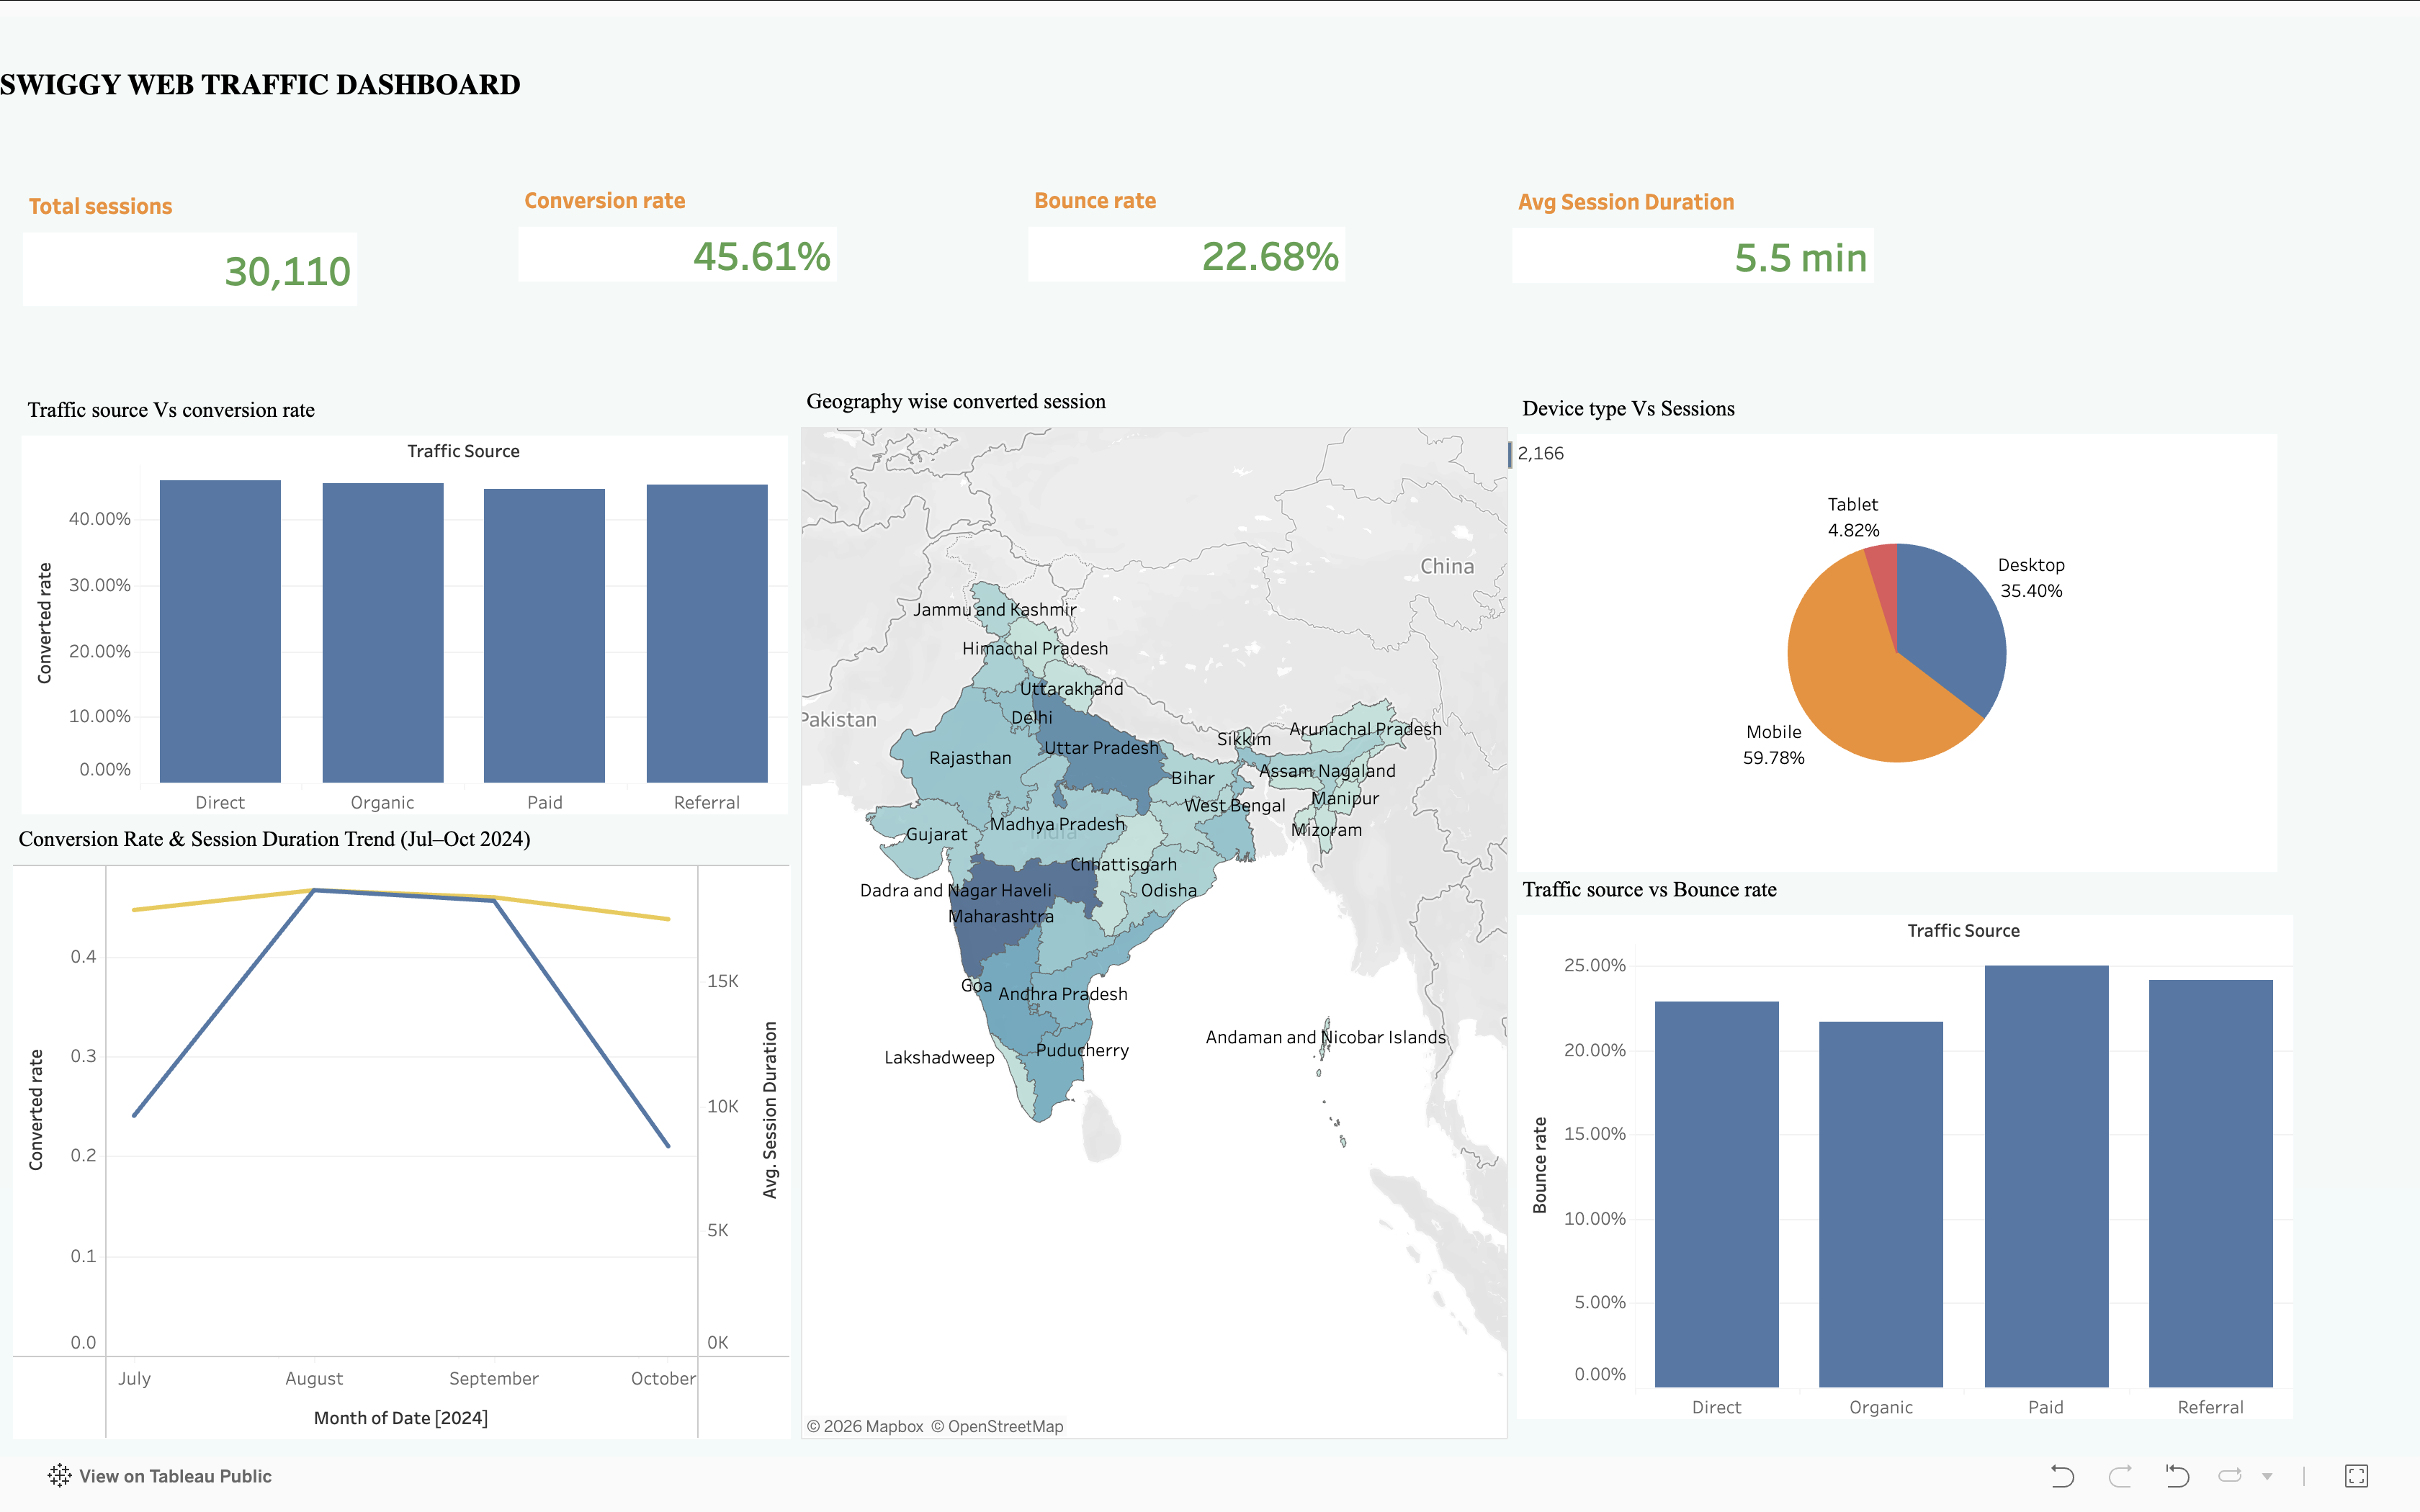

The page's visual inventory and layout, read from the dashboard file:
{"tool":"tableau","page":{"name":"Dashboard 2","canvas":[1000,1000],"units":"permille","ordinal":0},"visuals":[{"type":"text","box":[0,1.2,788.4,92.9]},{"type":"worksheet","title":"KPI-2(conversion rate)","mark":"Automatic","box":[214,110,131.6,133.2]},{"type":"worksheet","title":"KPI -3 Bounce rate","mark":"Automatic","box":[425,110,131,138.1]},{"type":"worksheet","title":"KPI-4 Avg Session","mark":"Automatic","box":[624.9,111.2,150.1,149.1]},{"type":"worksheet","title":"KPI-1(sessions)","mark":"Automatic","box":[9.2,113.7,138.4,119.8]},{"type":"worksheet","title":"Sheet 11","mark":"Multipolygon","box":[330.9,251.8,292.1,735.9]},{"type":"worksheet","title":"Sheet 1","mark":"Pie","box":[626.7,256.7,314.3,337.4]},{"type":"worksheet","title":"Sheet 3","mark":"Automatic","rows":["Calculation_1931342596378630"],"cols":["Traffic Source"],"box":[8.8,257.6,316.9,296.7]},{"type":"legend","title":"Sheet 11","param":"[federated.1r6je7g1iwuasj1035i9g1muz46y].[sum:Calculation_1931342595702789:qk]","box":[426.2,290.6,223.1,35.4]},{"type":"worksheet","title":"Sheet 6","mark":"Automatic","rows":["Calculation_1931342596378630","Avg. Session Duration"],"cols":["Date"],"box":[5.6,555.6,321.2,432.2]},{"type":"worksheet","title":"Sheet 4","mark":"Bar","rows":["Calculation_1931342467760131"],"cols":["Traffic Source"],"box":[626.9,591,320.6,383.4]}]}

Visuals, with their boxes on the dashboard's canvas, which has no fixed pixel size, in thousandths of its width and height (x1, y1, x2, y2). These are canvas units, not pixel positions in the 2420x1512 screenshot, which may show the page scaled, cropped or inside an application window:
text: (x1=0, y1=1, x2=788, y2=94)
"KPI-2(conversion rate)" worksheet: (x1=214, y1=110, x2=346, y2=243)
"KPI -3 Bounce rate" worksheet: (x1=425, y1=110, x2=556, y2=248)
"KPI-4 Avg Session" worksheet: (x1=625, y1=111, x2=775, y2=260)
"KPI-1(sessions)" worksheet: (x1=9, y1=114, x2=148, y2=234)
"Sheet 11" worksheet (Multipolygon marks): (x1=331, y1=252, x2=623, y2=988)
"Sheet 1" worksheet (Pie marks): (x1=627, y1=257, x2=941, y2=594)
"Sheet 3" worksheet: (x1=9, y1=258, x2=326, y2=554)
"Sheet 11" legend: (x1=426, y1=291, x2=649, y2=326)
"Sheet 6" worksheet: (x1=6, y1=556, x2=327, y2=988)
"Sheet 4" worksheet (Bar marks): (x1=627, y1=591, x2=948, y2=974)
